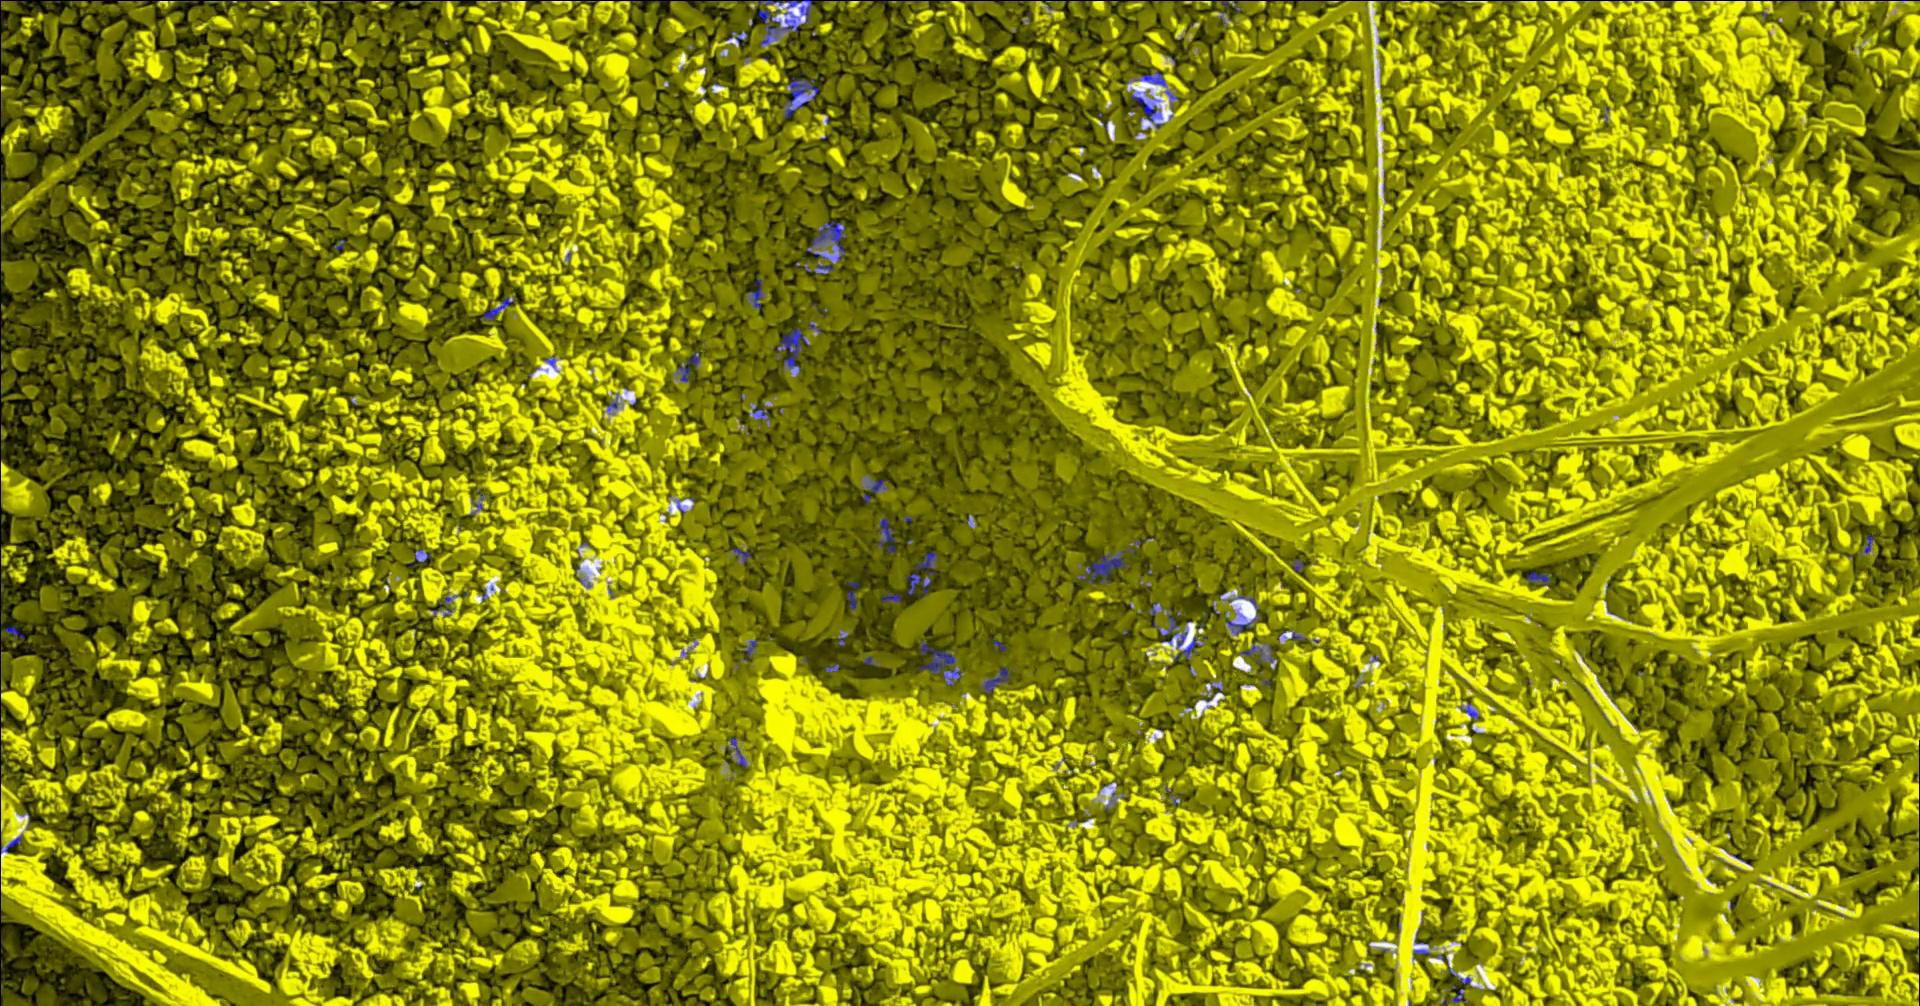ant: (737, 0, 825, 46), (1076, 539, 1142, 584), (919, 640, 963, 685), (806, 220, 846, 260), (775, 326, 808, 372), (783, 76, 819, 117), (905, 551, 937, 594), (980, 666, 1015, 697), (1150, 607, 1178, 641), (1224, 608, 1258, 634), (872, 517, 897, 553), (483, 296, 514, 320), (676, 351, 700, 381), (1129, 94, 1156, 121), (1173, 633, 1197, 661), (724, 737, 745, 767), (430, 594, 456, 616), (1239, 643, 1265, 664), (862, 479, 885, 502), (747, 277, 762, 307), (844, 580, 860, 610), (0, 835, 22, 855), (1140, 69, 1164, 86), (803, 260, 833, 274), (1441, 988, 1465, 1005), (1525, 572, 1550, 586), (742, 639, 757, 661), (1211, 0, 1239, 11), (1459, 702, 1478, 719), (3, 625, 24, 639), (731, 547, 750, 563), (730, 30, 747, 46), (752, 405, 768, 420), (880, 592, 902, 602), (1863, 533, 1873, 553)
